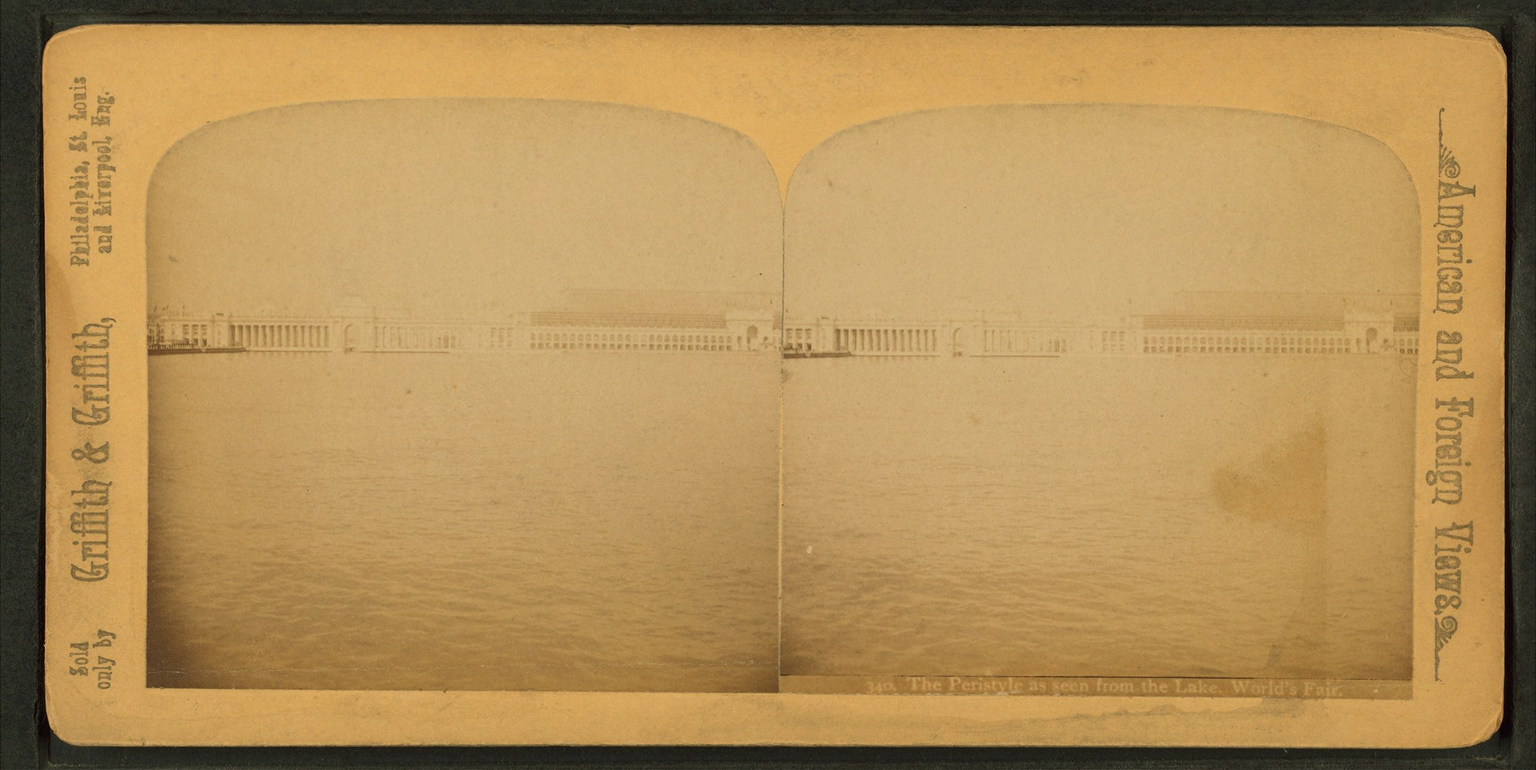half_image: (781, 104, 1423, 699), (147, 98, 784, 694)
